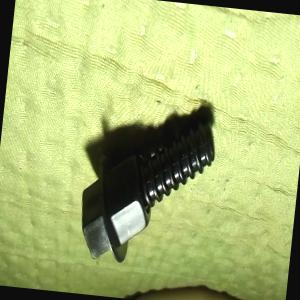parafuso: (75, 106, 218, 272)
